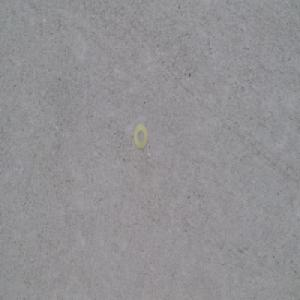Washer: (134, 123, 149, 151)
